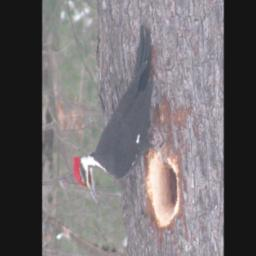Woodpecker: (71, 24, 172, 204)
